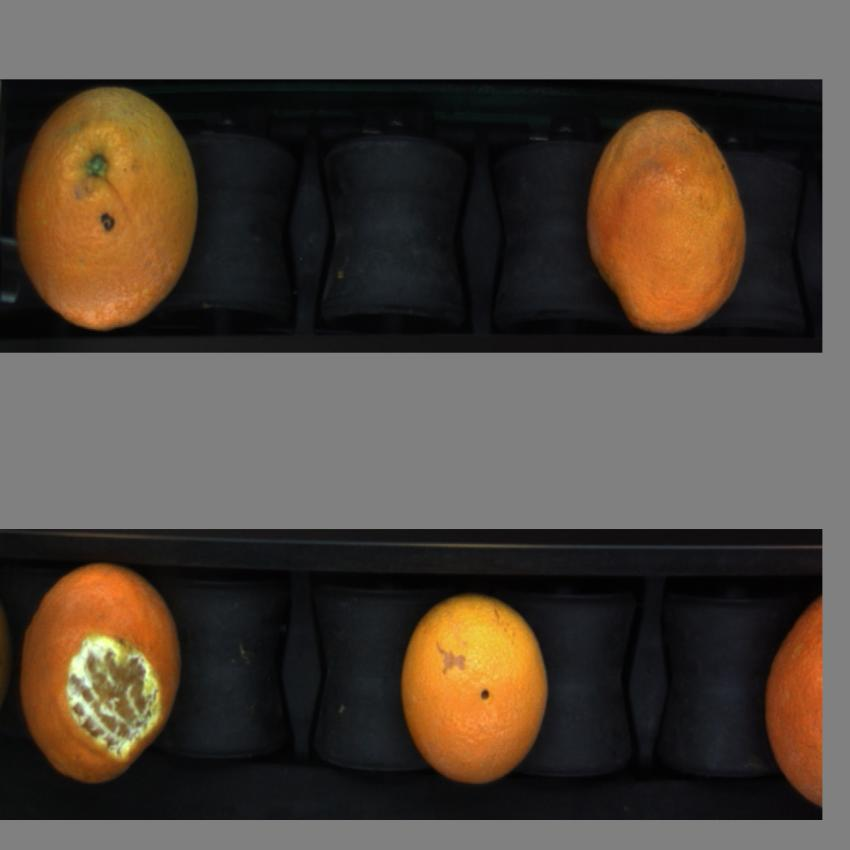Buen estado: (10, 80, 218, 338), (584, 96, 752, 326), (395, 584, 557, 788), (763, 584, 822, 802)
Mal estado: (15, 557, 185, 790)
